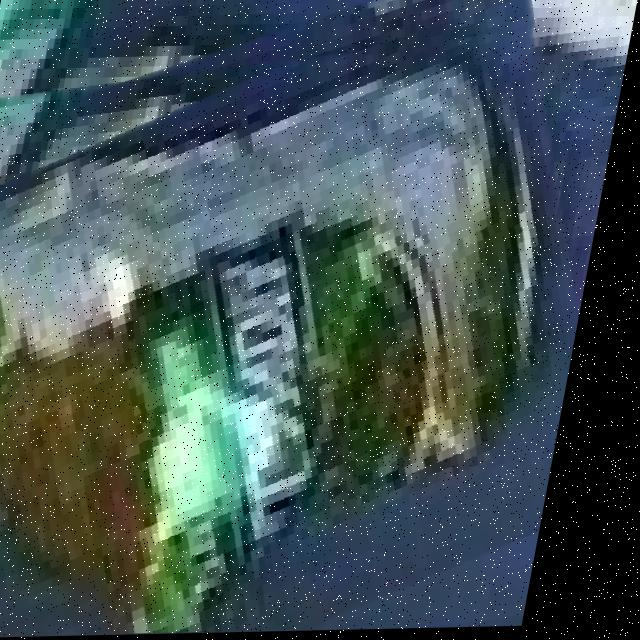litter: (0, 40, 590, 636)
